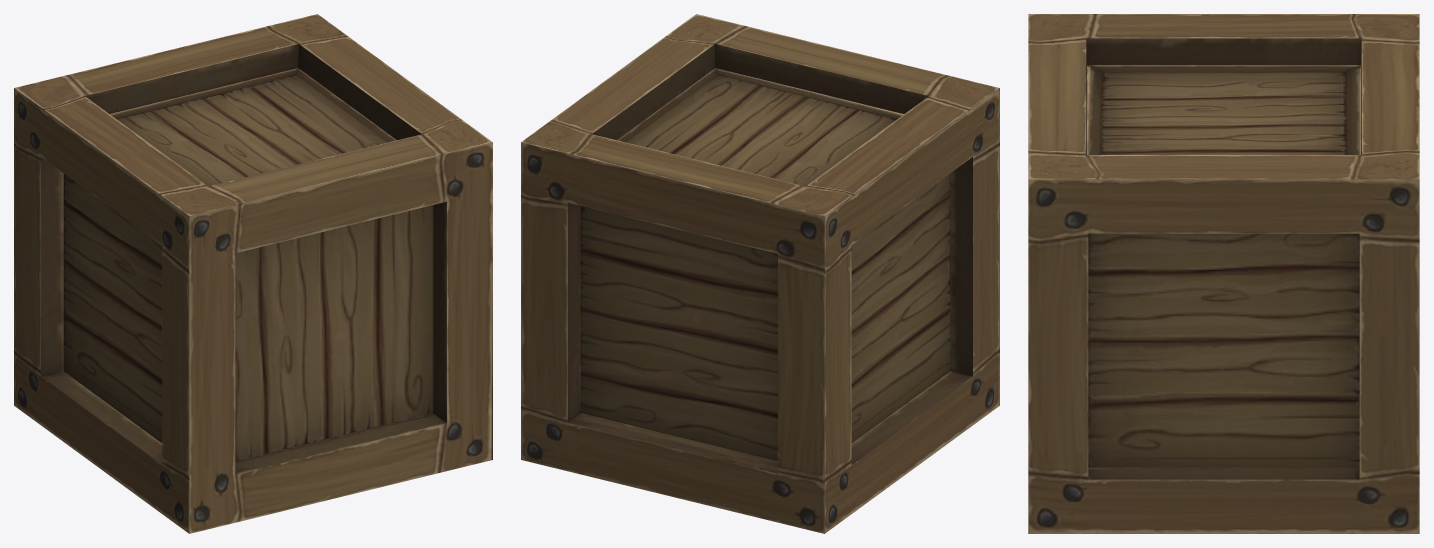
The model's file is WoodenBox.fbx.
The picture shows the model from 3 angles, left to right: view 1: azimuth 30°, elevation 25°; view 2: azimuth 150°, elevation 25°; view 3: azimuth 270°, elevation 25°; orthographic projection. The views are drawn at different scales.
Parts seen in each view (by area): view 1: Cube; view 2: Cube; view 3: Cube.
Boxes of the visible parts, x1,y1,x2,y2 form: Cube: (14,14,492,533); Cube: (521,14,999,533); Cube: (1028,14,1419,533).
Size of the model in its own units: 2 by 2 by 2.
